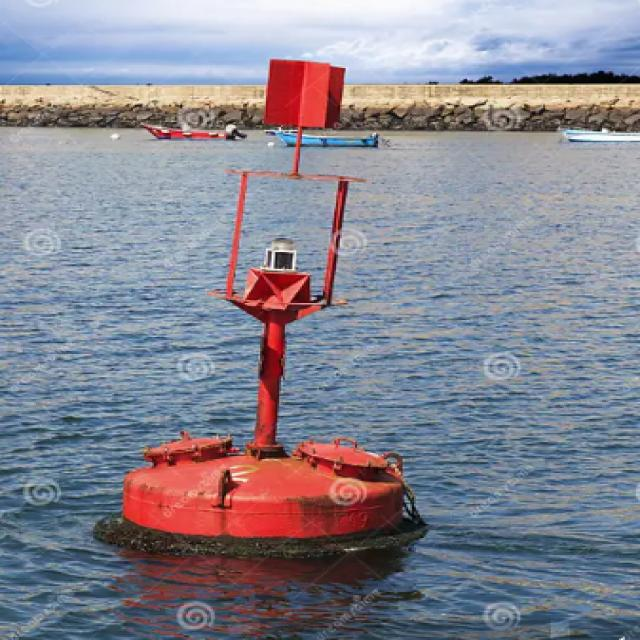buoy: (96, 27, 463, 568)
